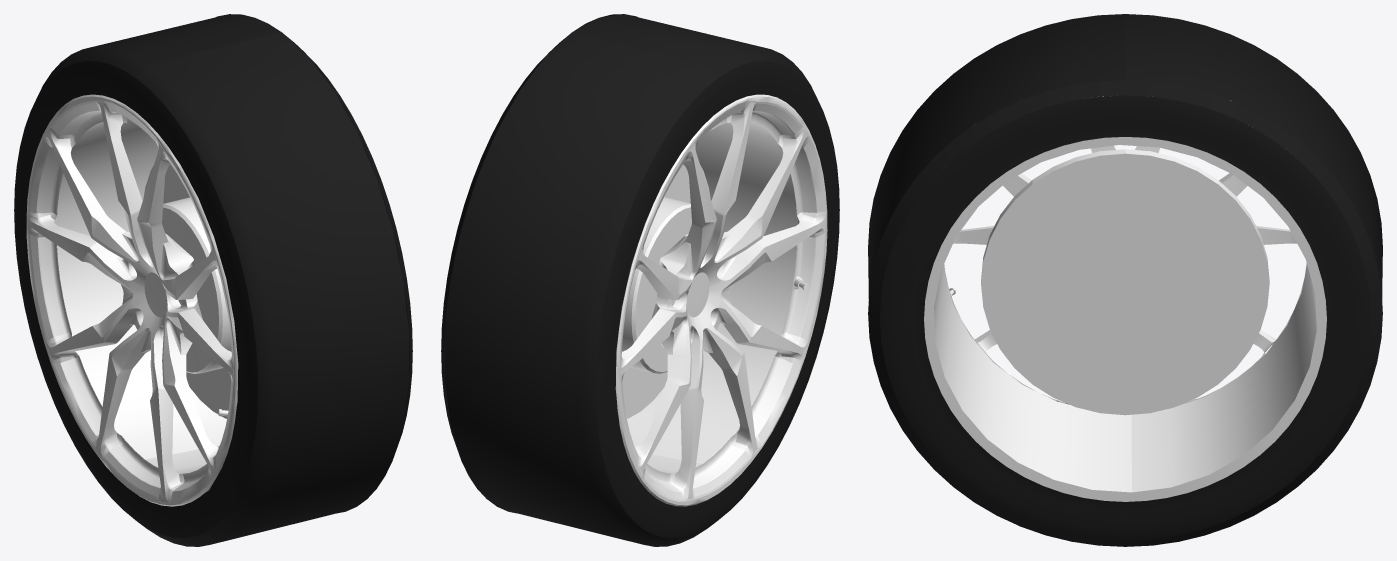
Rendered from lamborghini_hurrican_wheelhigh.obj.
The picture shows the model from 3 angles, left to right: view 1: azimuth 30°, elevation 25°; view 2: azimuth 150°, elevation 25°; view 3: azimuth 270°, elevation 25°; orthographic projection.
Parts seen in each view (by area): view 1: lamborghini_hurrican_wheelhigh_chassis.005; view 2: lamborghini_hurrican_wheelhigh_chassis.005; view 3: lamborghini_hurrican_wheelhigh_chassis.005.
Boxes of the visible parts, box(x1,y1,x2,y2) form: lamborghini_hurrican_wheelhigh_chassis.005: box(14, 14, 412, 546); lamborghini_hurrican_wheelhigh_chassis.005: box(441, 14, 839, 546); lamborghini_hurrican_wheelhigh_chassis.005: box(868, 14, 1382, 546).
Bounding box in the file's own units: 0.2515 × 0.6833 × 0.6831.
